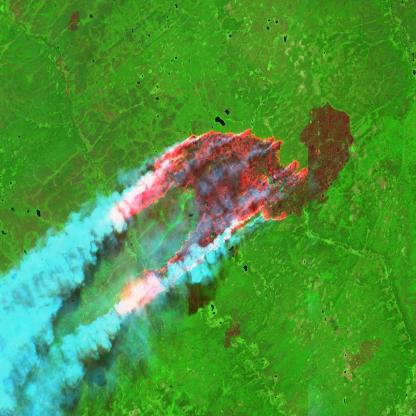fire: (98, 124, 309, 322)
